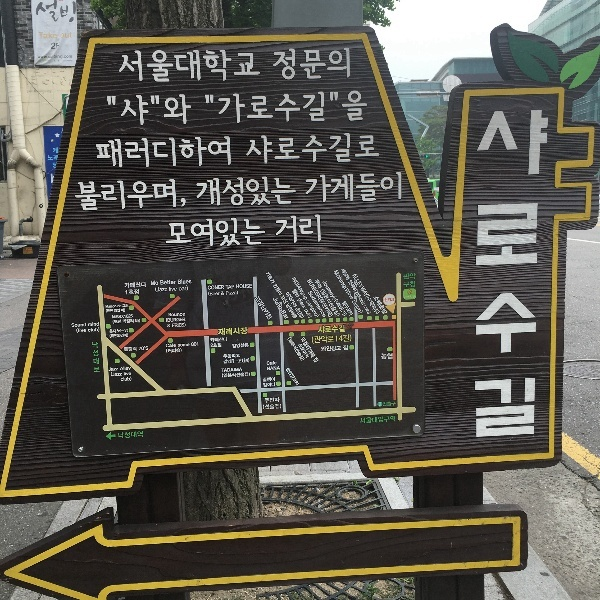text: (481, 108, 496, 442), (497, 108, 512, 442), (513, 108, 528, 442), (529, 108, 544, 442), (545, 108, 551, 442), (478, 108, 480, 442), (81, 178, 96, 216), (97, 178, 112, 216), (113, 178, 128, 216), (129, 178, 144, 216), (145, 178, 160, 216), (161, 178, 176, 216), (209, 89, 224, 126), (225, 89, 240, 126), (241, 89, 256, 126), (257, 89, 272, 126), (273, 89, 288, 126), (289, 89, 304, 126), (305, 89, 320, 126), (321, 89, 336, 126), (337, 89, 352, 126), (353, 89, 368, 126), (129, 48, 144, 85), (145, 48, 160, 85), (161, 48, 176, 85), (177, 48, 192, 85), (193, 48, 208, 85), (209, 48, 224, 85), (225, 48, 240, 85), (241, 48, 256, 85), (273, 46, 288, 82), (289, 46, 304, 82), (305, 46, 320, 82), (321, 46, 336, 82), (113, 93, 128, 129), (129, 93, 144, 129), (145, 93, 160, 129), (161, 93, 176, 129), (177, 93, 192, 129), (257, 132, 272, 167), (273, 132, 288, 167), (289, 132, 304, 167), (305, 132, 320, 167), (321, 132, 336, 167), (337, 132, 352, 167), (353, 132, 368, 167), (337, 46, 351, 82), (321, 171, 336, 204), (337, 171, 352, 204), (353, 171, 368, 204), (369, 171, 384, 204), (385, 171, 400, 204), (369, 132, 383, 167), (289, 213, 304, 245), (305, 213, 320, 245), (209, 176, 224, 208), (225, 176, 240, 208), (241, 176, 256, 208), (257, 176, 272, 208), (273, 176, 288, 208), (177, 217, 192, 248), (193, 217, 208, 248), (209, 217, 224, 248), (225, 217, 240, 248), (241, 217, 256, 248), (306, 171, 320, 204), (305, 336, 320, 365), (275, 213, 288, 245), (196, 176, 208, 208), (177, 178, 187, 216), (49, 1, 64, 25), (337, 296, 352, 319), (325, 288, 336, 319), (289, 292, 304, 314), (259, 296, 272, 321), (322, 296, 336, 319), (292, 336, 304, 362), (370, 295, 384, 317), (120, 48, 128, 85), (36, 1, 48, 25), (338, 270, 352, 290), (290, 367, 304, 387), (167, 217, 176, 248), (257, 217, 266, 248), (73, 178, 80, 216), (357, 274, 368, 298), (65, 1, 76, 25), (289, 176, 297, 208), (289, 303, 304, 320), (308, 300, 320, 320), (312, 291, 320, 319), (106, 93, 112, 129), (321, 291, 328, 319), (356, 299, 368, 315), (311, 279, 320, 300), (257, 48, 262, 85), (251, 132, 256, 167), (277, 283, 288, 297), (327, 281, 336, 298), (321, 334, 336, 344), (337, 334, 352, 344), (204, 89, 208, 126), (296, 276, 304, 294), (353, 279, 361, 297), (307, 308, 320, 319), (129, 431, 144, 440), (369, 416, 384, 425), (225, 327, 240, 336), (321, 325, 336, 334), (278, 298, 288, 311), (92, 342, 96, 373), (97, 342, 101, 373), (337, 288, 341, 319), (129, 282, 144, 289), (225, 372, 240, 379), (321, 345, 336, 352), (403, 281, 416, 289), (51, 43, 64, 51), (385, 416, 396, 425), (345, 268, 352, 282), (346, 301, 352, 317), (305, 343, 311, 359), (379, 297, 384, 316), (179, 285, 192, 292), (361, 294, 368, 307), (118, 431, 128, 440), (38, 31, 48, 40), (296, 288, 304, 299), (53, 162, 64, 170), (178, 279, 192, 285), (226, 290, 240, 296), (226, 284, 240, 290), (49, 31, 58, 40), (113, 334, 129, 339), (113, 329, 129, 334), (209, 285, 225, 290), (312, 334, 320, 344), (403, 274, 416, 280), (53, 147, 64, 154), (385, 297, 389, 316), (113, 320, 128, 325), (113, 314, 128, 319), (161, 280, 176, 285), (225, 368, 240, 373), (225, 354, 240, 359), (49, 54, 64, 59), (360, 416, 368, 425), (263, 403, 272, 411), (273, 403, 282, 411), (337, 325, 345, 334), (166, 317, 176, 324), (178, 343, 192, 348), (241, 372, 251, 379), (49, 155, 59, 162), (129, 289, 140, 295), (209, 291, 220, 297), (401, 171, 403, 204), (211, 343, 224, 348), (211, 337, 224, 342), (177, 317, 186, 324), (241, 327, 248, 336), (113, 372, 123, 378), (166, 348, 176, 354), (225, 359, 235, 365), (385, 298, 400, 302), (385, 353, 393, 360), (114, 309, 128, 313), (65, 31, 72, 39), (385, 402, 396, 407), (241, 284, 252, 289), (263, 382, 272, 388), (263, 377, 272, 383), (218, 327, 224, 336), (343, 345, 352, 351), (166, 343, 176, 348), (38, 54, 48, 59), (88, 327, 96, 333), (264, 398, 272, 404), (232, 343, 240, 349), (241, 343, 249, 349), (300, 290, 304, 302), (404, 295, 416, 299), (129, 347, 138, 352), (151, 281, 160, 286), (177, 323, 186, 328), (269, 271, 272, 286), (273, 271, 276, 286), (349, 286, 352, 301), (121, 376, 128, 382), (161, 287, 168, 293), (169, 286, 176, 292), (273, 398, 280, 404), (72, 323, 80, 328), (88, 322, 96, 327), (118, 304, 128, 308), (273, 366, 281, 371), (284, 295, 288, 305), (65, 54, 73, 59), (135, 319, 144, 323), (177, 313, 186, 317), (305, 290, 308, 302), (321, 279, 324, 291), (121, 308, 128, 313), (337, 345, 342, 352), (285, 309, 288, 320), (369, 305, 372, 316), (168, 324, 176, 328), (302, 343, 304, 359), (321, 213, 322, 245), (378, 402, 384, 407), (113, 367, 119, 372), (139, 346, 144, 352), (81, 328, 86, 334), (81, 323, 87, 328), (177, 348, 182, 354), (193, 342, 199, 347), (121, 367, 128, 371), (169, 313, 176, 317), (305, 336, 306, 362), (123, 319, 128, 324), (129, 319, 134, 324), (267, 366, 272, 371), (267, 361, 272, 366), (273, 296, 274, 321), (145, 346, 149, 352), (106, 309, 112, 313), (122, 304, 128, 308), (106, 305, 112, 309), (156, 287, 160, 293), (302, 297, 304, 309), (305, 297, 307, 309), (369, 274, 370, 298), (61, 31, 64, 39), (366, 305, 368, 316), (381, 353, 384, 360), (125, 282, 128, 289), (321, 279, 322, 300), (124, 347, 128, 352), (129, 314, 133, 319), (172, 323, 176, 328), (273, 361, 277, 366), (236, 284, 240, 289), (129, 376, 132, 382), (77, 328, 80, 334), (97, 327, 100, 333), (125, 289, 128, 295), (273, 382, 276, 388), (124, 372, 128, 376), (113, 305, 117, 309), (353, 301, 354, 317), (109, 329, 112, 334), (97, 322, 100, 327), (221, 368, 224, 373), (225, 337, 228, 342), (353, 286, 354, 301), (145, 282, 147, 289), (222, 372, 224, 379), (129, 372, 132, 376), (129, 367, 132, 371), (273, 377, 275, 383), (319, 279, 320, 291), (289, 309, 290, 320), (110, 367, 112, 372), (110, 334, 112, 339), (241, 368, 243, 373), (238, 359, 240, 364), (241, 359, 243, 364), (222, 291, 224, 296), (319, 325, 320, 334), (111, 372, 112, 378), (191, 342, 192, 347), (235, 361, 240, 362), (113, 309, 114, 313)
